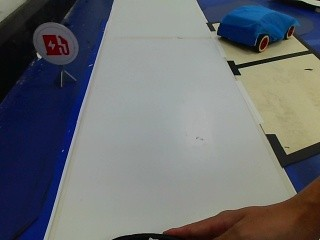battery: (30, 24, 75, 68)
car: (214, 3, 296, 56)
